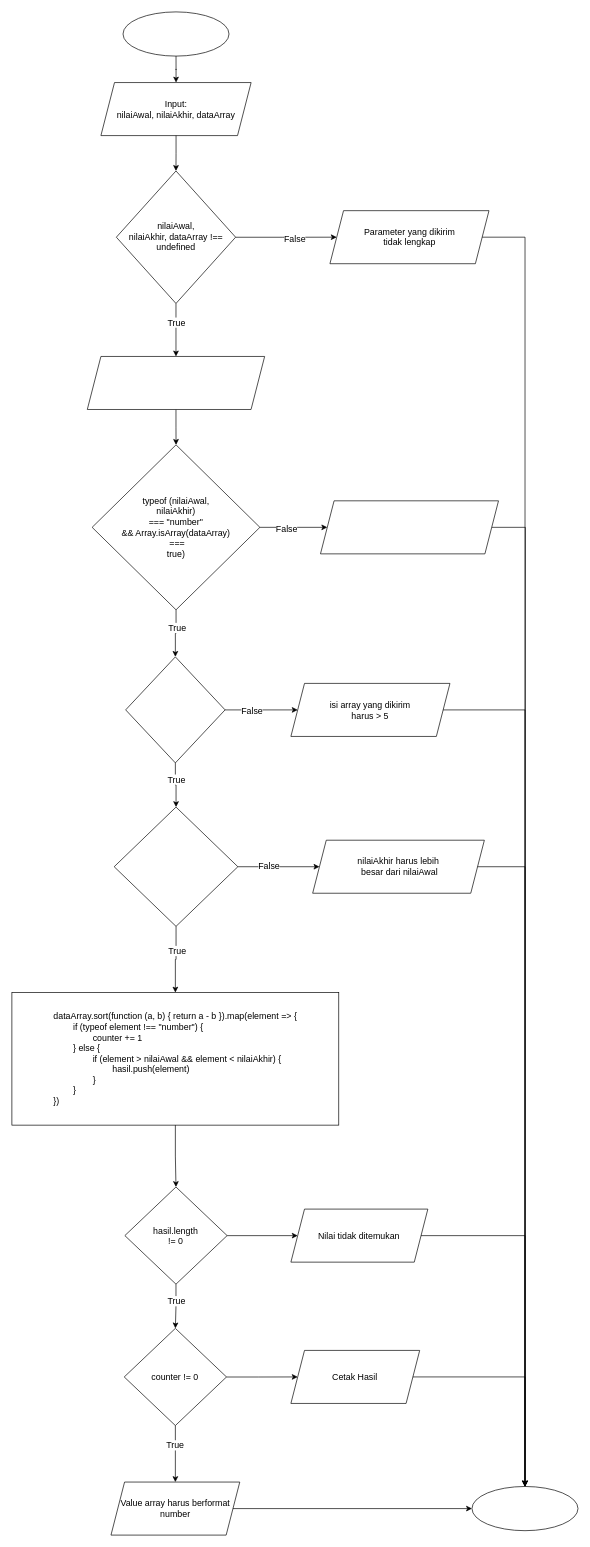
Some shapes in this 590 by 1547 pixel diagram are drawn without their labels. The shapes that lost their labels are listed below. From the top down, each one's centre as x and y in pixels, then its label:
(175,33): Mulai
(176,382): lenArray = dataArray.length let hasil = [] let counter = 0
(409,527): seleksiNilai(number, number, [array])
(175,709): lenArray > 5
(175,866): nilaiAwal < nilaiAkhir
(524,1508): Selesai
